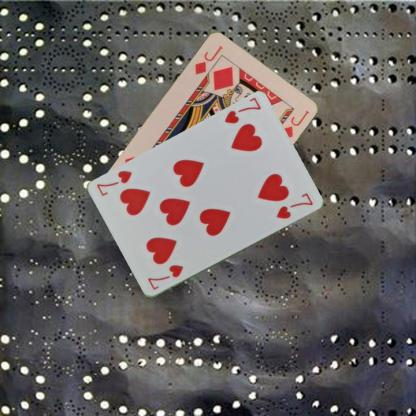7h: (144, 262, 184, 292), (222, 95, 262, 125)
Jd: (192, 42, 224, 76)
